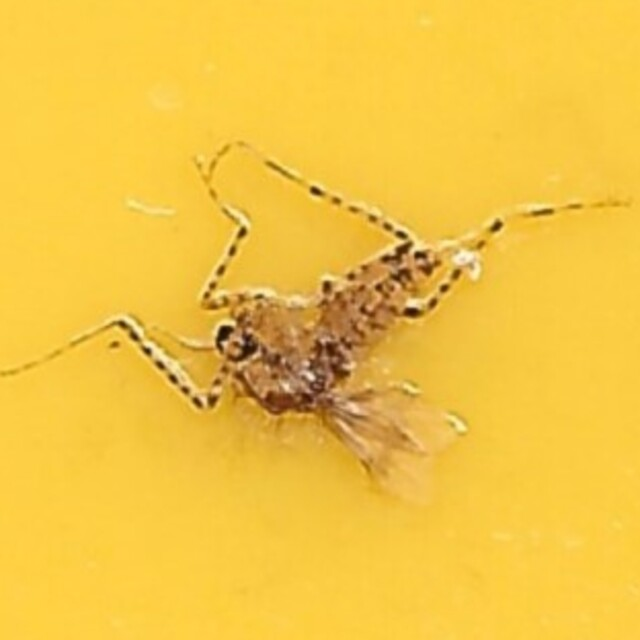Nematocera: (205, 225, 435, 415)
